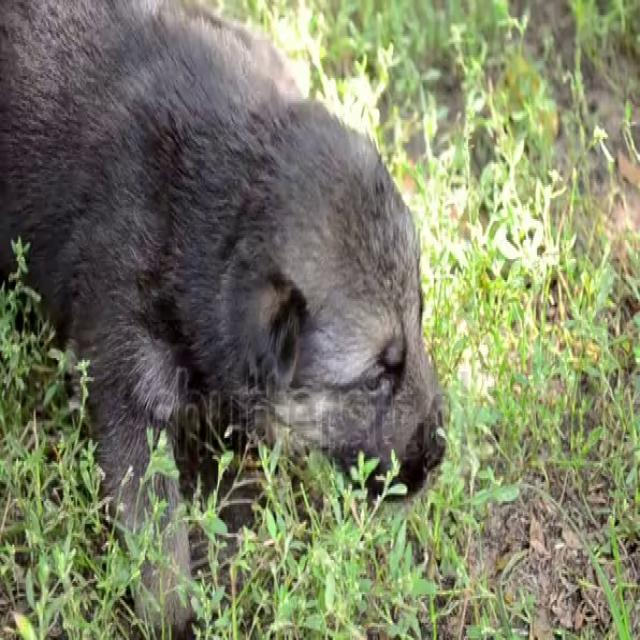normal_animals: (1, 2, 451, 636)
